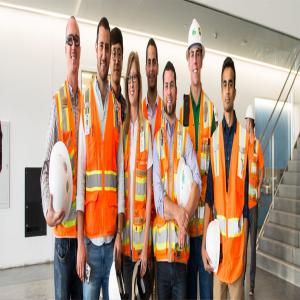none: (220, 54, 239, 119), (65, 13, 82, 82), (96, 17, 113, 86), (161, 63, 180, 123), (125, 52, 143, 115), (146, 39, 162, 96), (110, 26, 124, 89)
white: (186, 15, 206, 90), (245, 103, 257, 138)
